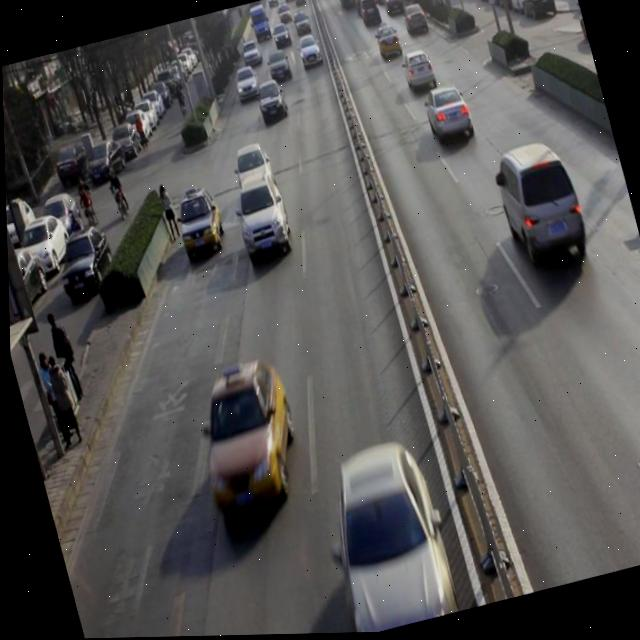car: (311, 441, 457, 635), (184, 357, 313, 531), (227, 176, 296, 270), (169, 187, 228, 263), (420, 83, 477, 154), (229, 143, 277, 201), (253, 77, 290, 129), (398, 46, 437, 95), (371, 21, 405, 64)
truck: (486, 136, 595, 282)
